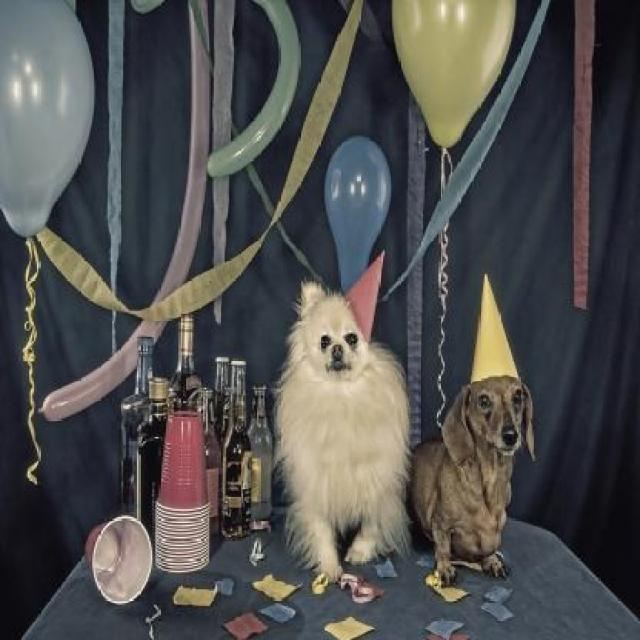balloon: (0, 0, 102, 248), (387, 0, 524, 154), (318, 126, 396, 306)
